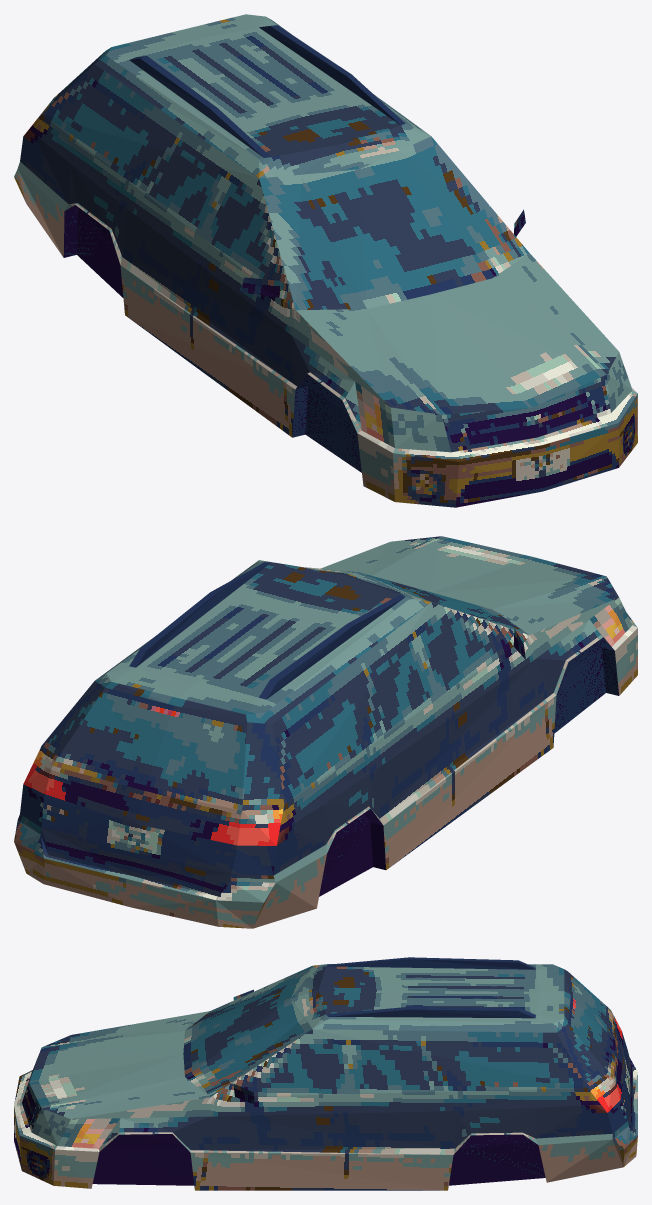
The model's file is outback.glb.
The picture shows the model from 3 angles, top to bottom: view 1: azimuth 30°, elevation 25°; view 2: azimuth 150°, elevation 25°; view 3: azimuth 270°, elevation 25°; orthographic projection. The views are drawn at different scales.
Parts seen in each view (by area): view 1: Cube.002; view 2: Cube.002; view 3: Cube.002.
Part boxes in pixels (left/top/right/bottom): Cube.002: left=14, top=14, right=637, bottom=507; Cube.002: left=14, top=536, right=637, bottom=928; Cube.002: left=14, top=957, right=637, bottom=1190.
Bounding box in the file's own units: 1.89 × 1.34 × 4.74.
1 material, 1 textured.
